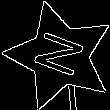N_E: (28, 28, 91, 84)
